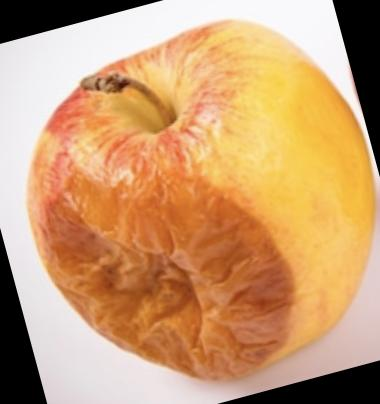Banana: (29, 19, 377, 381)
